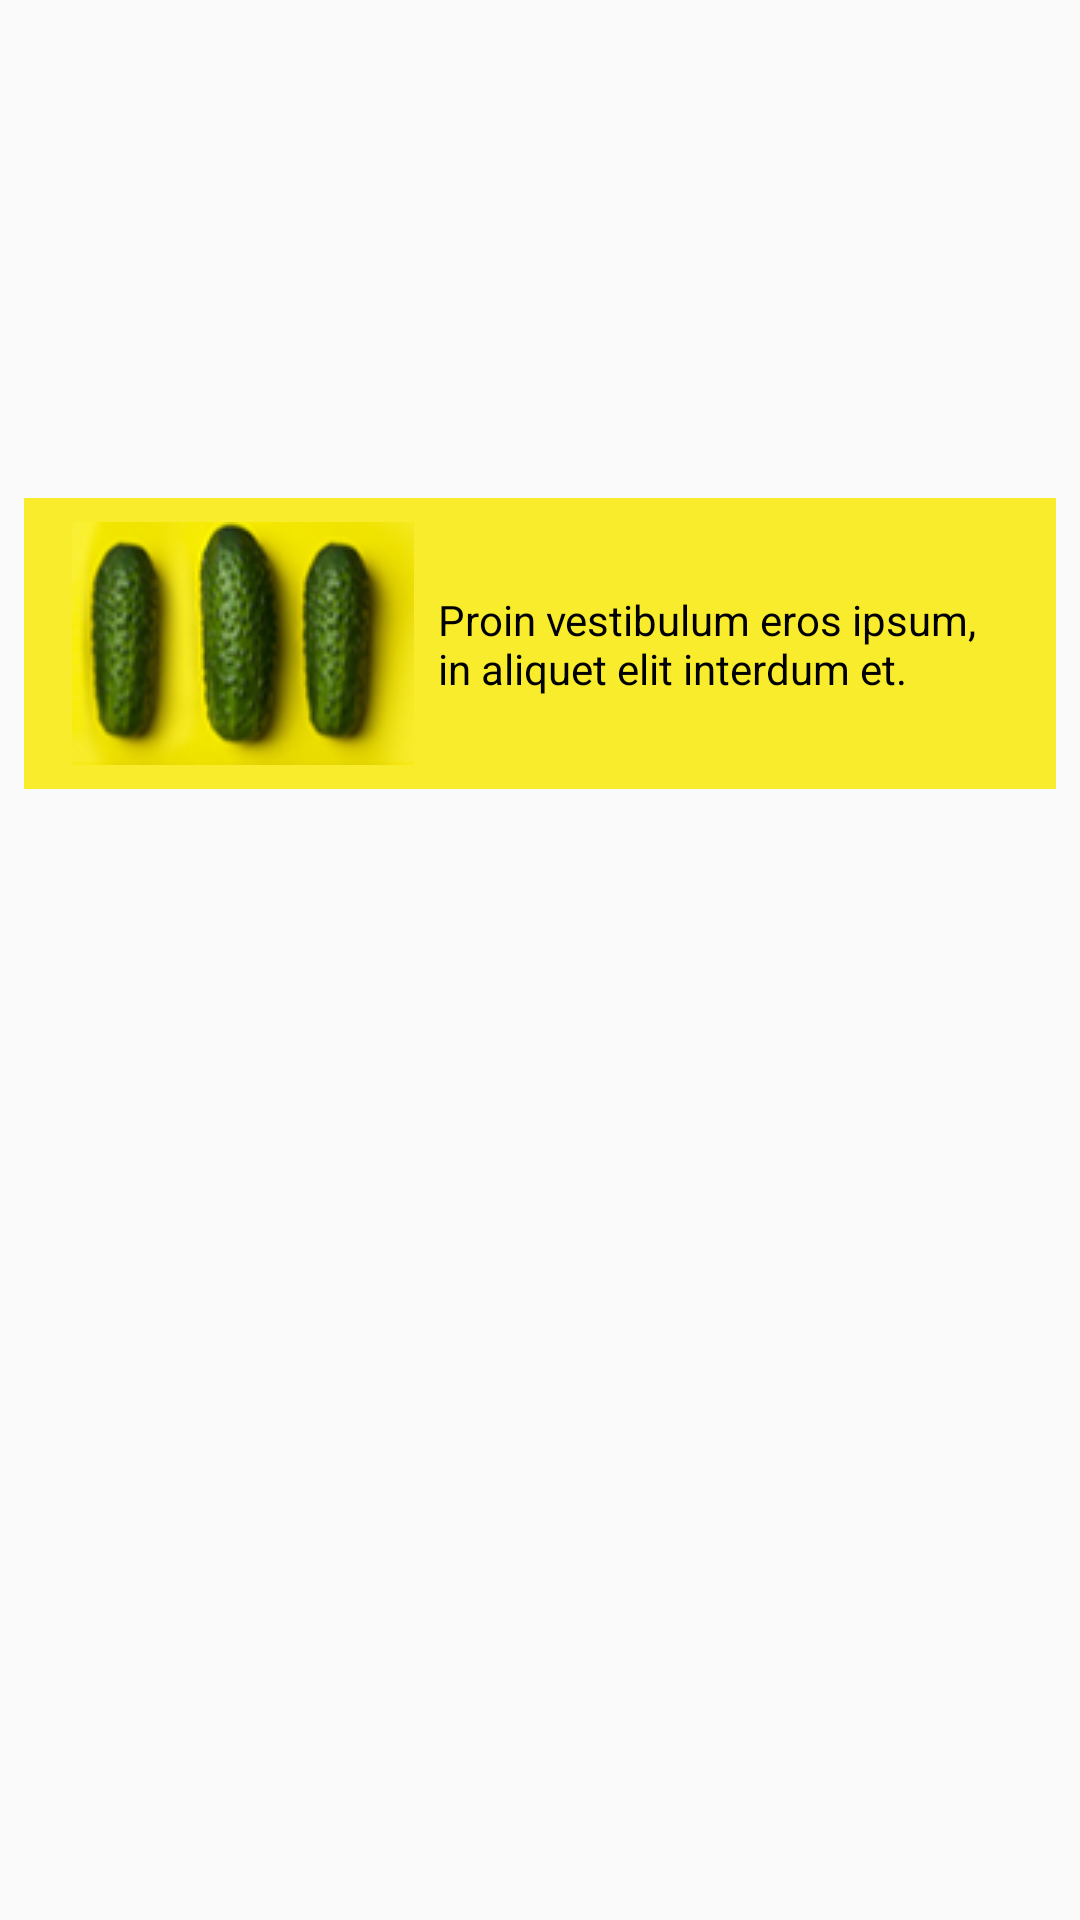

Locate icon controls on the screen. Image size 1080px×1920px, boxes as (x1, y1, x2, y2).
cucumber: (72, 522, 414, 765)
